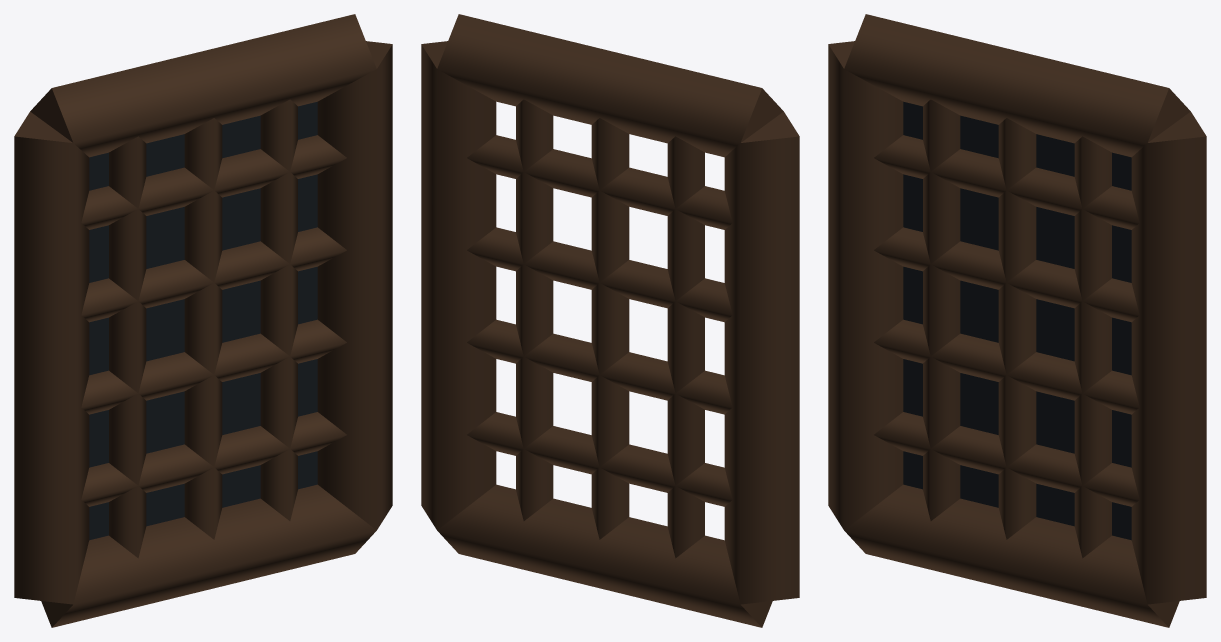
File: lattice_01.glb
The picture shows the model from 3 angles, left to right: view 1: azimuth 30°, elevation 25°; view 2: azimuth 150°, elevation 25°; view 3: azimuth 330°, elevation 25°; orthographic projection.
Visible parts, largest first — view 1: window_lattice_01; view 2: window_lattice_01; view 3: window_lattice_01.
Part boxes in pixels (bbox=[...]): window_lattice_01: bbox=[14, 14, 392, 627]; window_lattice_01: bbox=[421, 14, 799, 627]; window_lattice_01: bbox=[828, 14, 1206, 627].
Bounding box in the file's own units: 0.8074 × 1.1 × 0.16.
